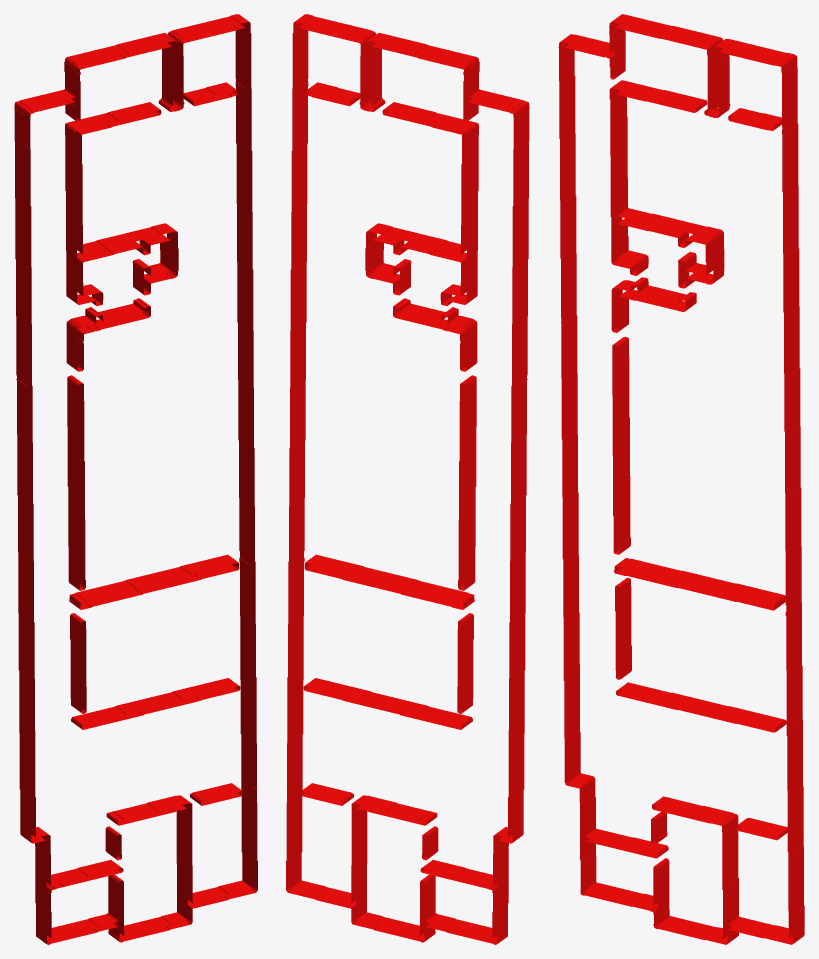
The model's file is extruded_map.dae.
The picture shows the model from 3 angles, left to right: view 1: azimuth 30°, elevation 25°; view 2: azimuth 150°, elevation 25°; view 3: azimuth 330°, elevation 25°; orthographic projection.
Visible parts, largest first — view 1: node0; view 2: node0; view 3: node0.
Boxes of the visible parts, bbox=[...] form: node0: bbox=[14, 14, 257, 944]; node0: bbox=[286, 14, 529, 944]; node0: bbox=[558, 14, 804, 944].
Bounding box in the file's own units: 24.5 × 89.4 × 2.
